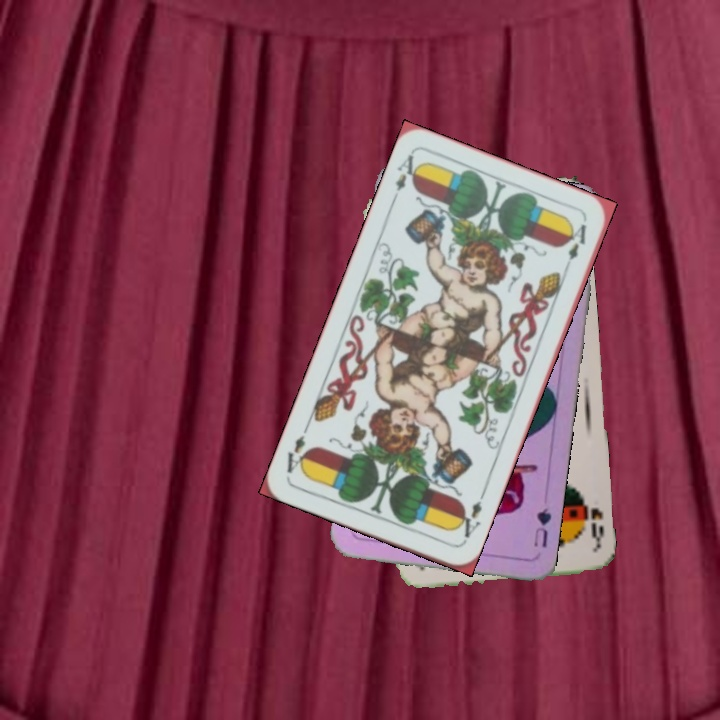EA: (387, 150, 423, 206), (452, 497, 485, 545)
GU: (529, 504, 554, 550)
SO: (577, 491, 607, 550)
